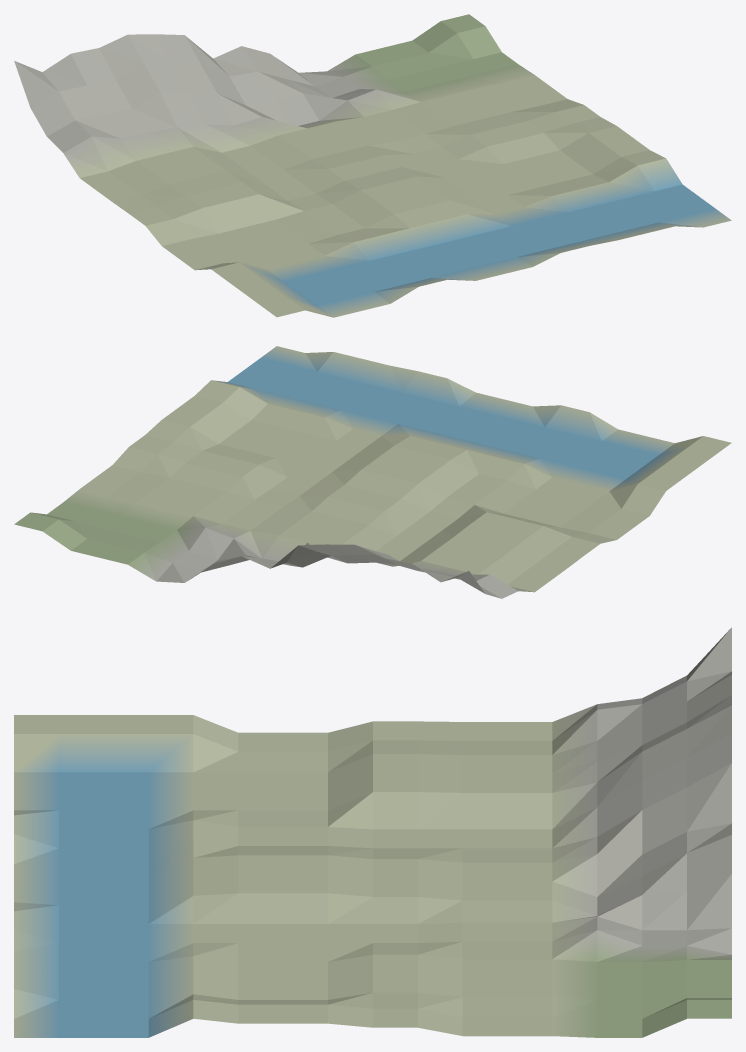
3 views of the same model, one above another, from view 1: azimuth 30°, elevation 25°; view 2: azimuth 150°, elevation 25°; view 3: azimuth 270°, elevation 25° (orthographic). The views are drawn at different scales.
Size of the model in its own units: 32 by 5.85 by 32.
